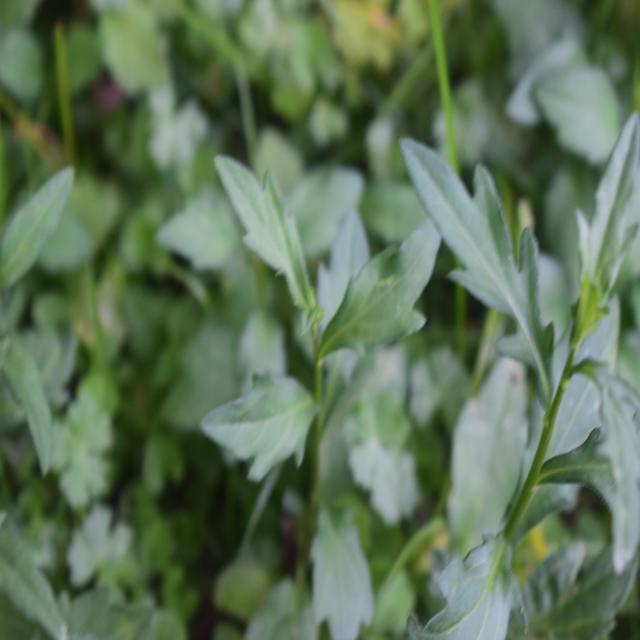Indian aster: (194, 148, 430, 587), (438, 138, 640, 564)
